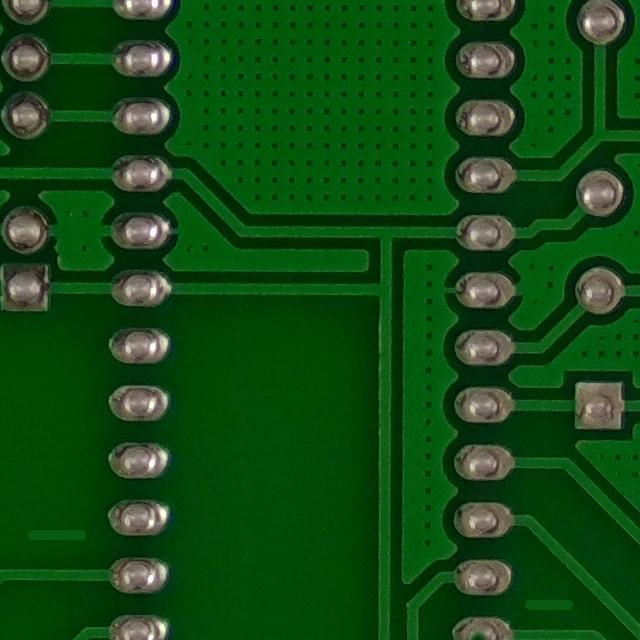spurious_copper: (19, 512, 91, 560), (522, 583, 579, 625)
